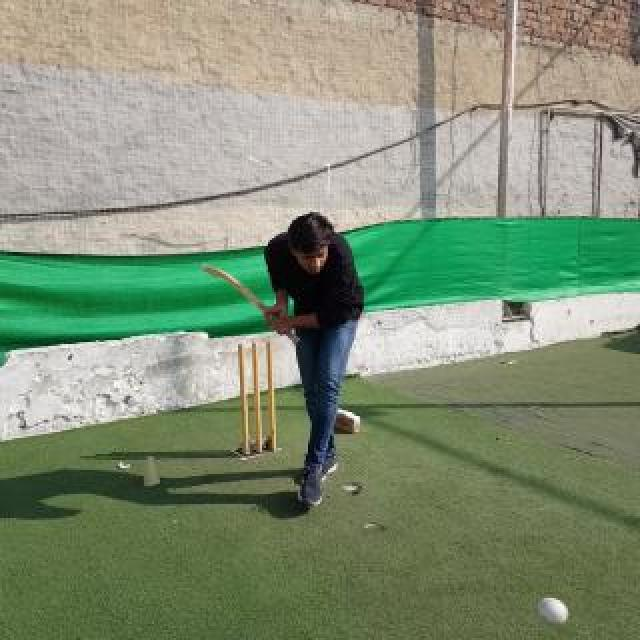ball: (534, 596, 570, 628)
bat: (200, 264, 302, 346)
